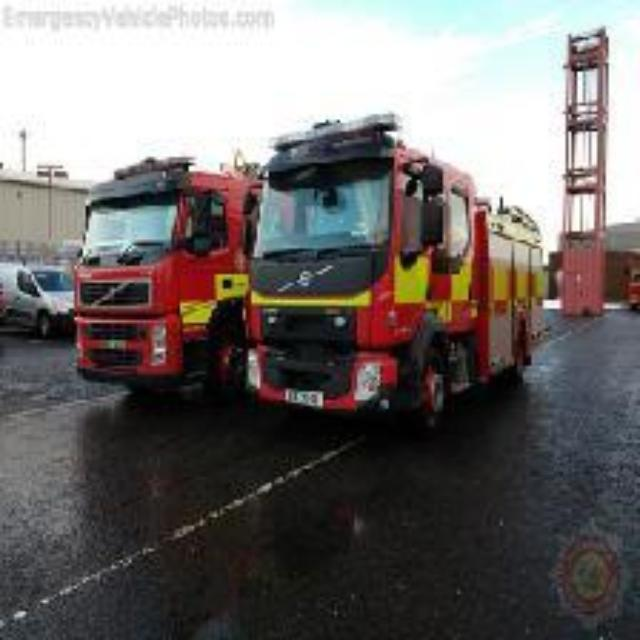emergency: (260, 133, 538, 410), (77, 165, 251, 387)
